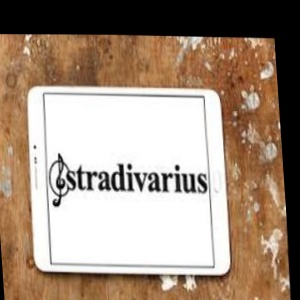stradivarius: (180, 90, 236, 202)
